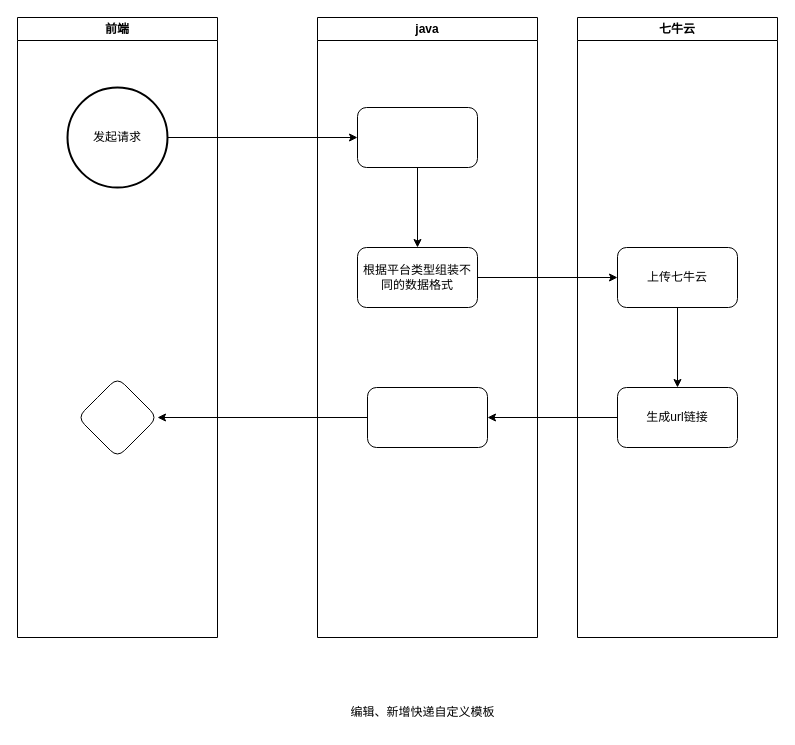
This 795x745 diagram has some shape labels left out. Each missing label, with the centre of its shape:
将生成的url和前端传的数据保存到数据库: the point at 427,417
查询原来的模板数据 修改数据: the point at 417,137
结束: the point at 117,417
